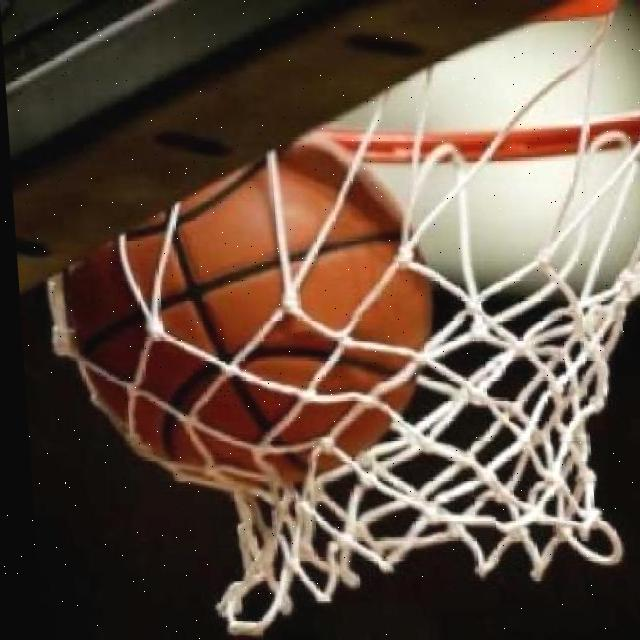Goal: (51, 132, 443, 488)
